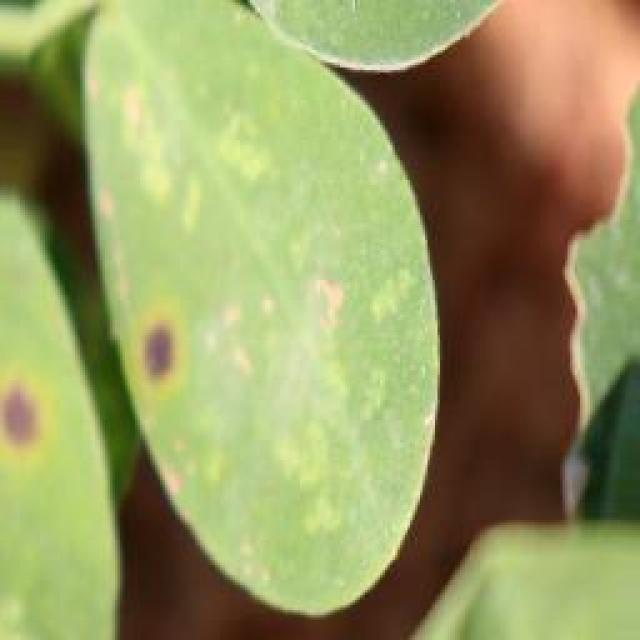Early_leaf_spot: (111, 298, 203, 407), (0, 358, 69, 468)
